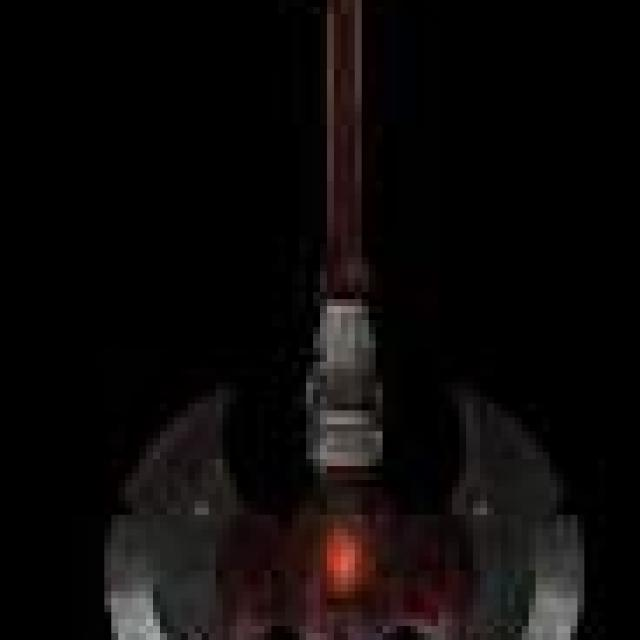Gun: (77, 0, 605, 640)
